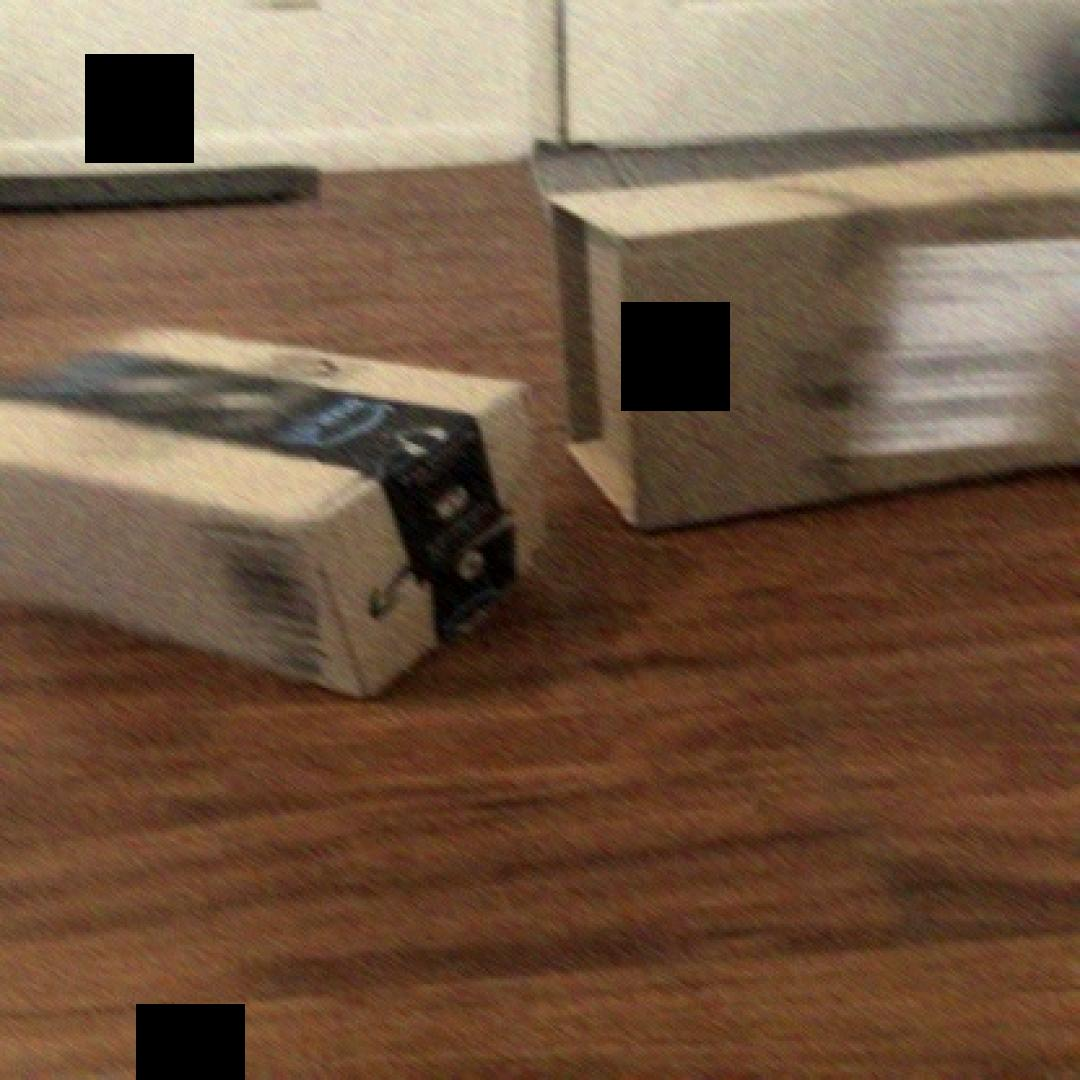package: (0, 319, 563, 719), (545, 140, 1080, 550)
